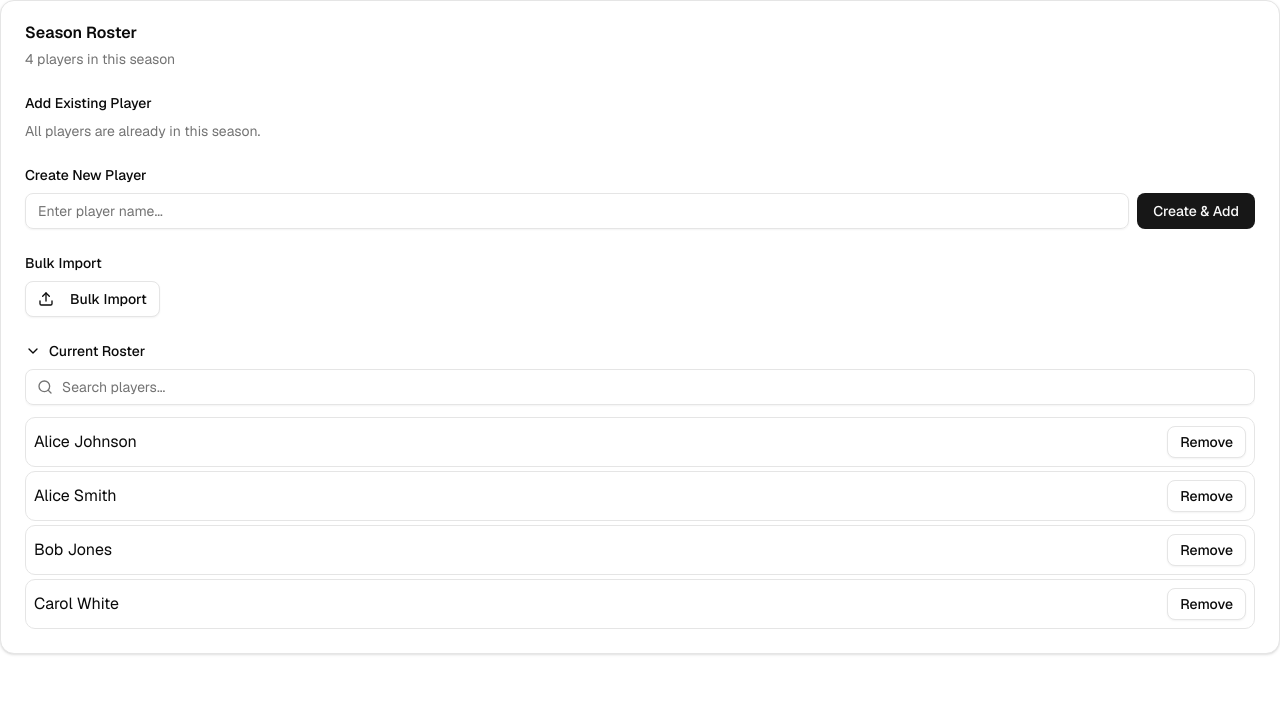
Scenario: RosterManager - Player Search › filters players as user types (case-insensitive)
The width and height of the screenshot is (1280, 720).
Expected: the link "Alice Smith" is shown, [34,484,117,508]
Expected: the link "Bob Jones" is shown, [34,538,112,562]
Type in search input
Type "alice" into the field with test id "player-search-input". click: x=640, y=387
box: [25,369,1255,405]
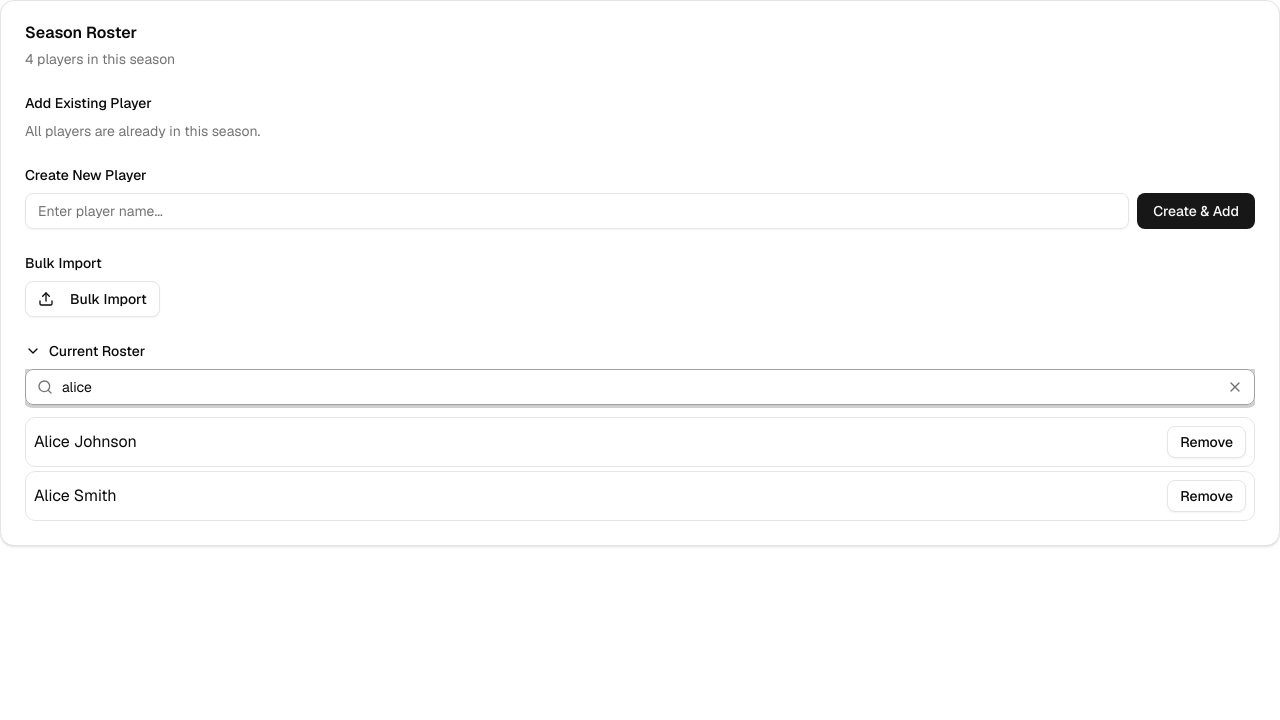
Expected: the link "Alice Smith" is shown, [34,484,117,508]
Result: the link "Bob Jones" is gone
Result: the link "Carol White" is gone
